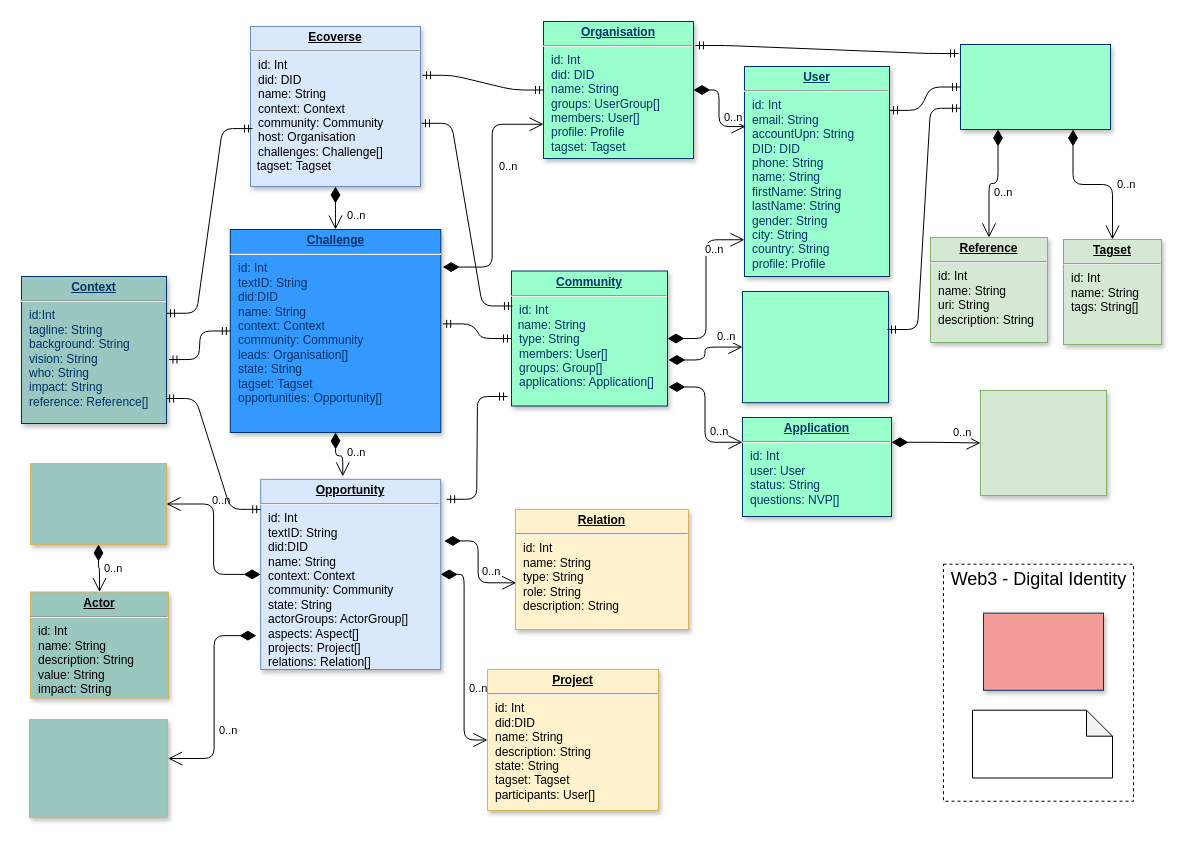
The diagram is 1185 pixels wide and 842 high, and some of its shapes have lost their labels. Each missing label, with the centre of its shape:
"ActorGroup id: Int name: String actors: Actor[]" goes at (99,505).
"Aspect id: Int title: String framing: String explanation: String" goes at (99,769).
"DID id: Int did: String (DID) ddo: String (json)" goes at (1044,652).
"NVP id: Int name: String value: String" goes at (1044,444).
"Profile id: Int tagsets: Tagset[] references: Reference[]" goes at (1036,88).
"System manages DIDs on behalf of Ecoverse Entities" goes at (1042,743).
"UserGroup id: Int name: String members: User[] profile: Profile focalPoint: User" goes at (816,348).
